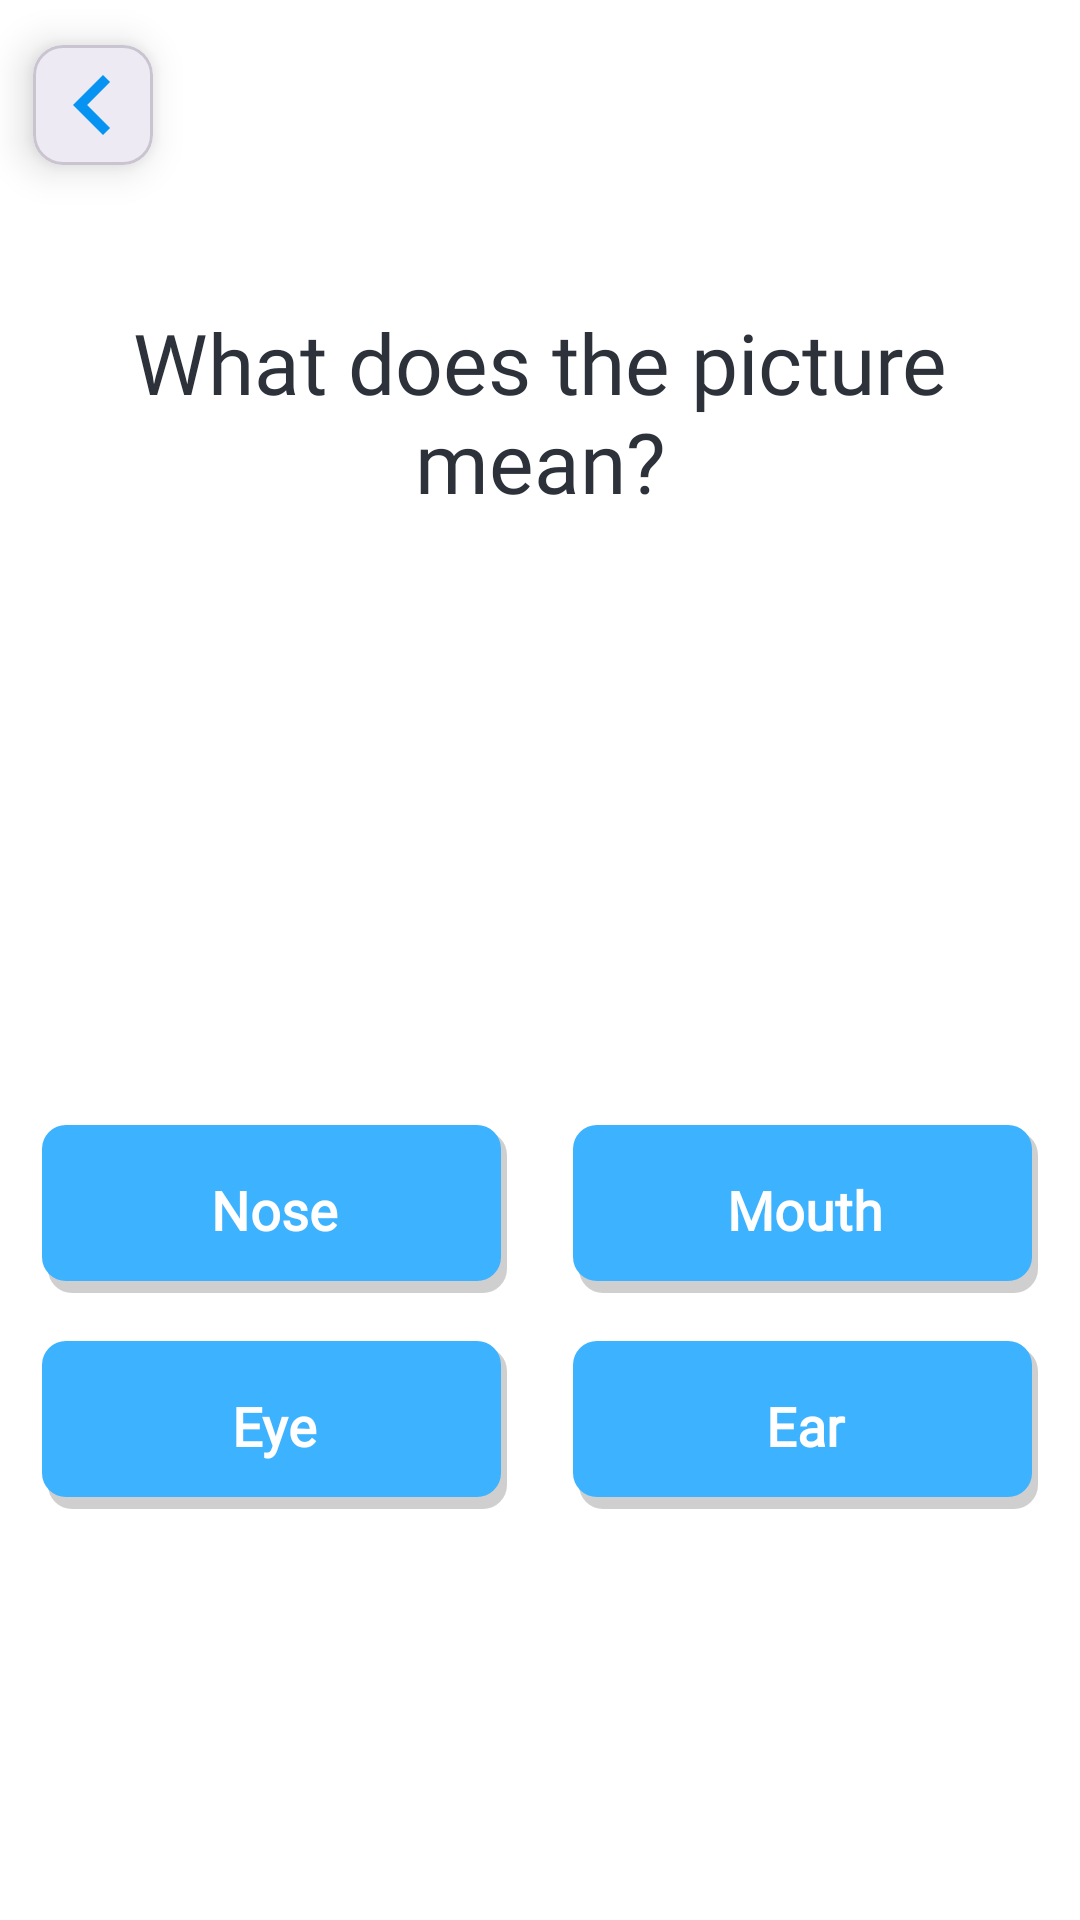

Icons on this 1080 x 1920 Android screen, each with its box as [x1,y1,x2,y2]:
Back: [33,45,153,165]
